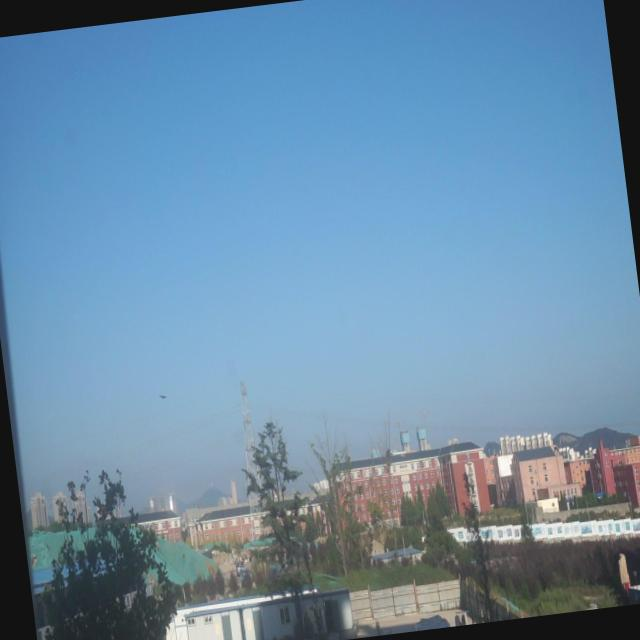drone: (158, 388, 168, 403)
